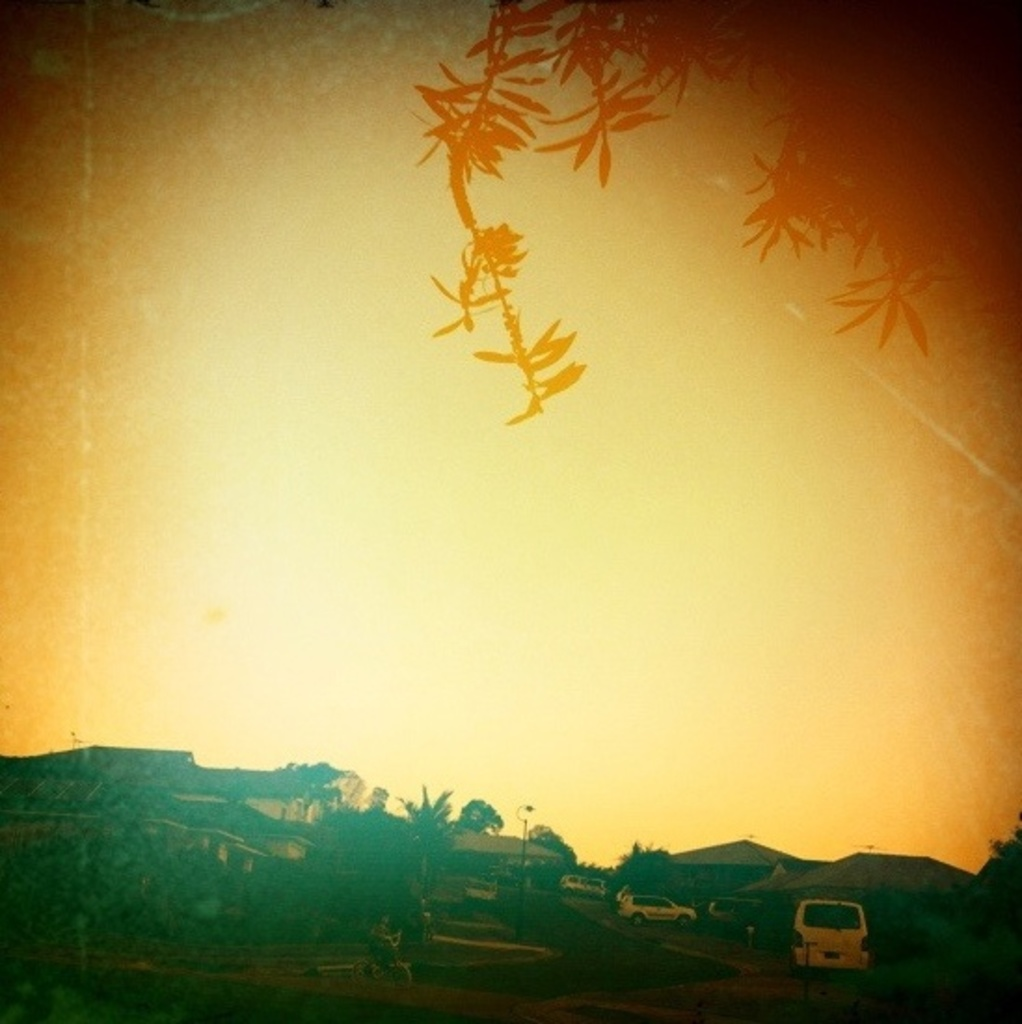Tree: (452, 796, 500, 832)
